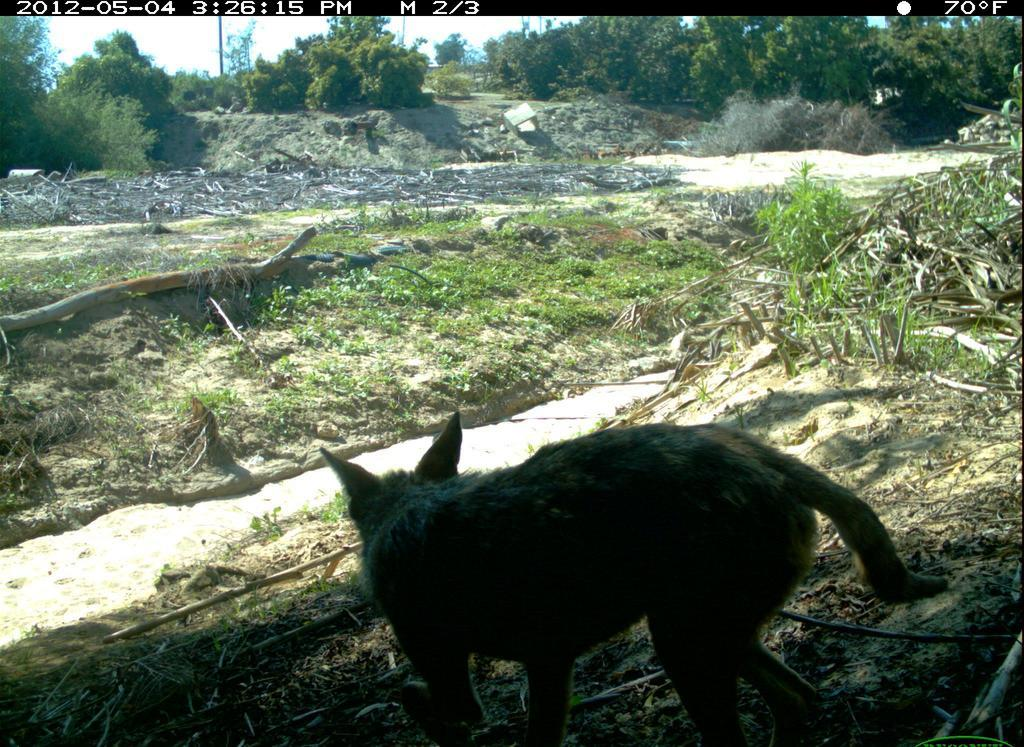coyote: (304, 377, 968, 744)
